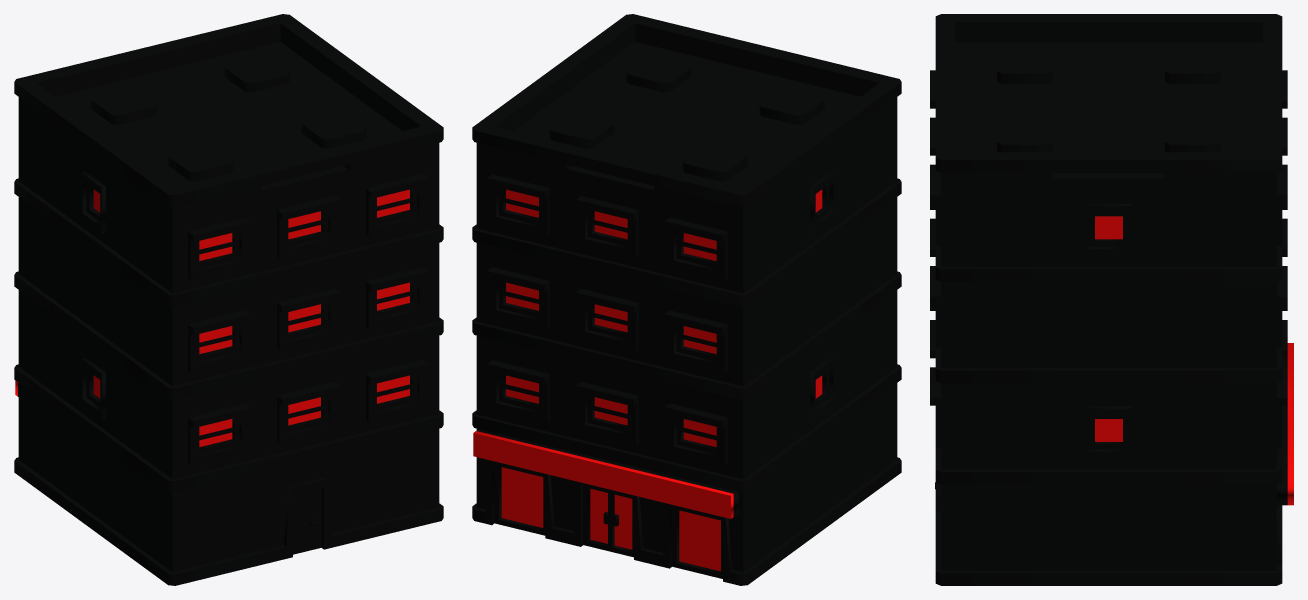
The model's file is building-i.glb.
3 views of the same model, side by side, from view 1: azimuth 30°, elevation 25°; view 2: azimuth 150°, elevation 25°; view 3: azimuth 270°, elevation 25° (orthographic). The views are drawn at different scales.
Visible parts, largest first — view 1: building-i; view 2: building-i; view 3: building-i.
Boxes of the visible parts, x1,y1,x2,y2 form: building-i: [14, 14, 443, 585]; building-i: [472, 14, 901, 585]; building-i: [930, 14, 1293, 585].
Size of the model in its own units: 1.24 by 1.68 by 1.3.
Materials: 1 (1 with a texture image).
